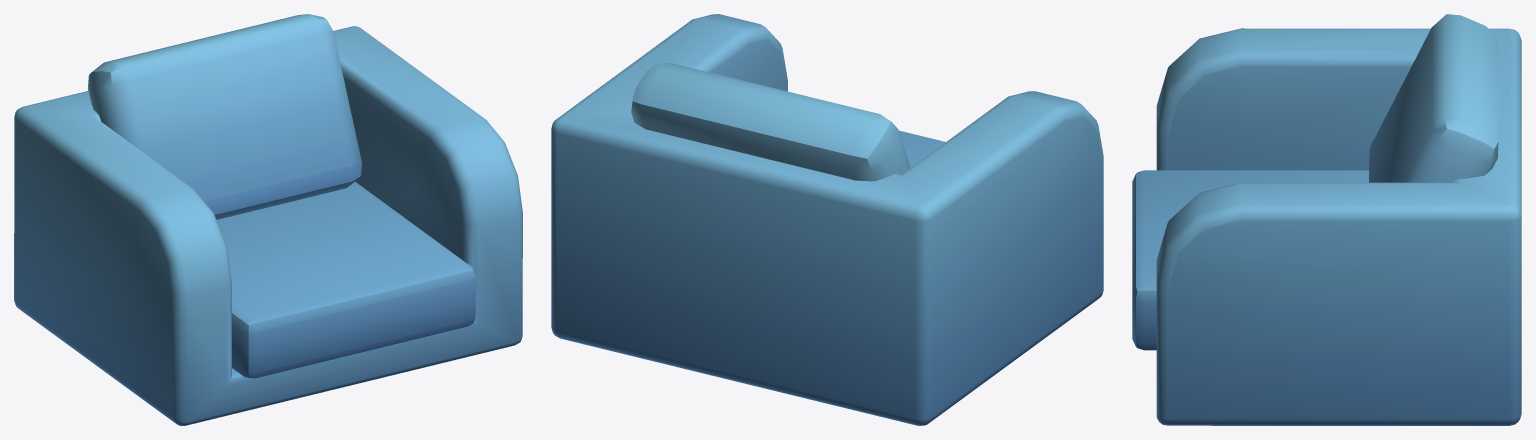
Rendered from kkf.armchair.glb.
3 views of the same model, side by side, from view 1: azimuth 30°, elevation 25°; view 2: azimuth 150°, elevation 25°; view 3: azimuth 270°, elevation 25° (orthographic). The views are drawn at different scales.
Visible parts, largest first — view 1: armchair; view 2: armchair; view 3: armchair.
Part boxes in pixels (box(x1,y1,x2,y2)): armchair: box(14, 14, 522, 425); armchair: box(551, 14, 1103, 425); armchair: box(1132, 14, 1521, 425).
Bounding box in the file's own units: 1.29 × 0.8757 × 1.14.
Materials: 1 (1 with a texture image).
